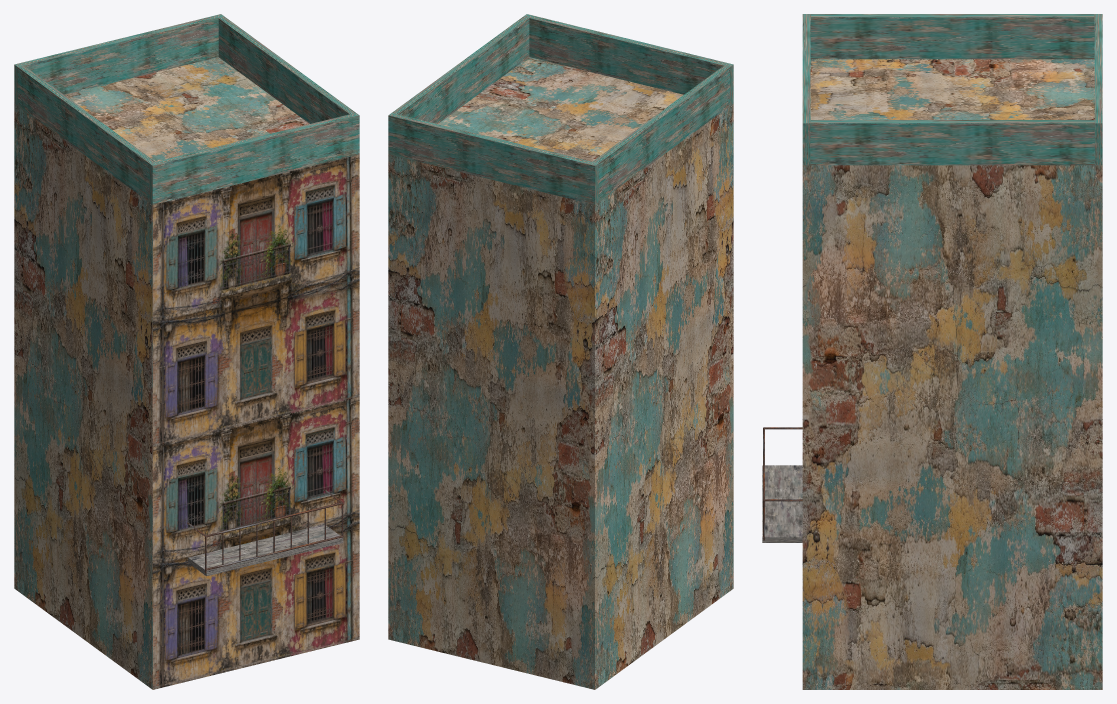
File: bld_oldhaka_block_1.glb
3 views of the same model, side by side, from view 1: azimuth 30°, elevation 25°; view 2: azimuth 150°, elevation 25°; view 3: azimuth 270°, elevation 25° (orthographic). The views are drawn at different scales.
Visible parts, largest first — view 1: bld_oldhaka_block_1; view 2: bld_oldhaka_block_1; view 3: bld_oldhaka_block_1.
Part boxes in pixels (x1,y1,x2,y2): bld_oldhaka_block_1: [14, 14, 359, 689]; bld_oldhaka_block_1: [388, 14, 733, 689]; bld_oldhaka_block_1: [762, 14, 1102, 689].
Size of the model in its own units: 5 by 12.1 by 6.58.
Materials: 5 (5 with a texture image).
